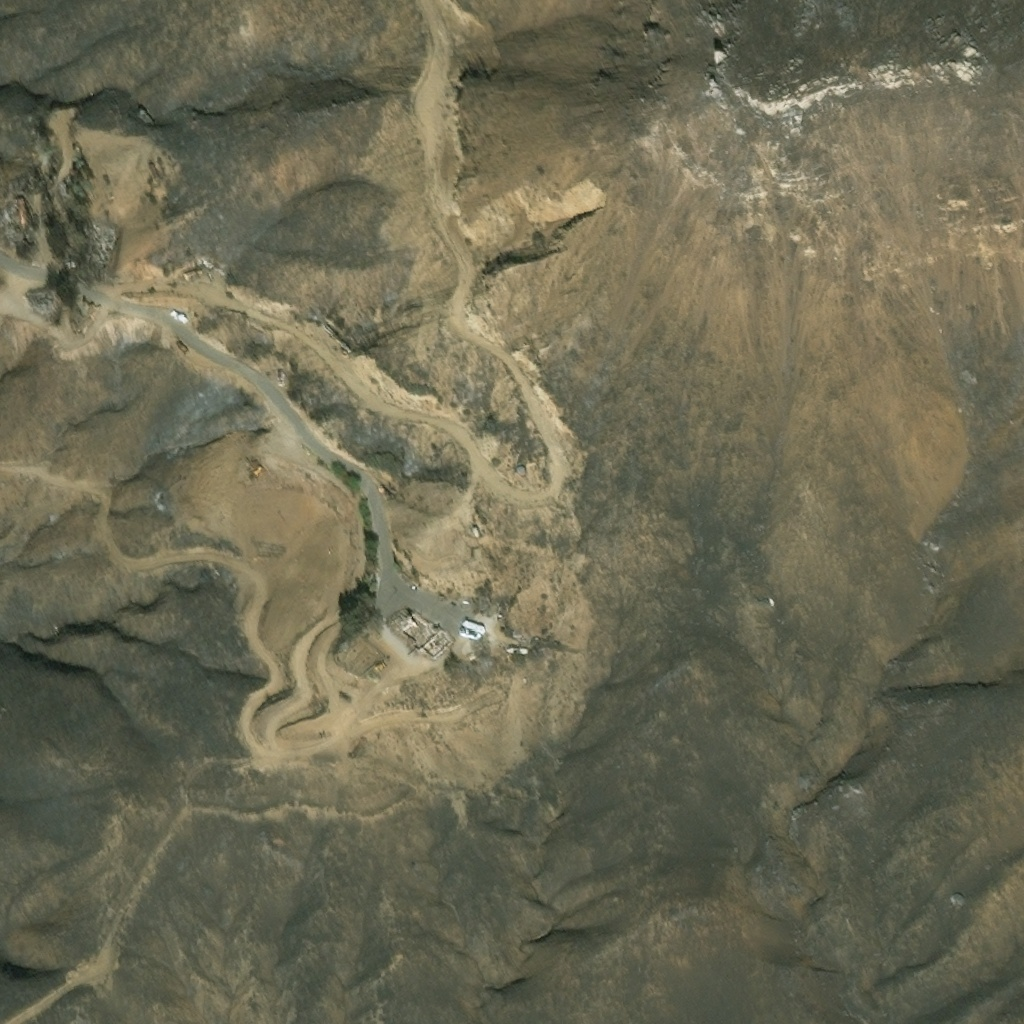0 no-damage: (168, 304, 185, 319)
3 destroyed: (384, 605, 454, 665), (438, 608, 471, 633), (94, 224, 111, 262), (15, 196, 28, 227), (4, 199, 18, 225), (27, 291, 51, 304), (180, 262, 201, 275), (434, 591, 457, 602), (336, 640, 351, 653), (512, 631, 528, 642), (58, 175, 67, 190), (176, 341, 187, 352), (507, 649, 526, 655), (253, 468, 264, 477), (471, 529, 480, 538), (515, 466, 525, 474)
